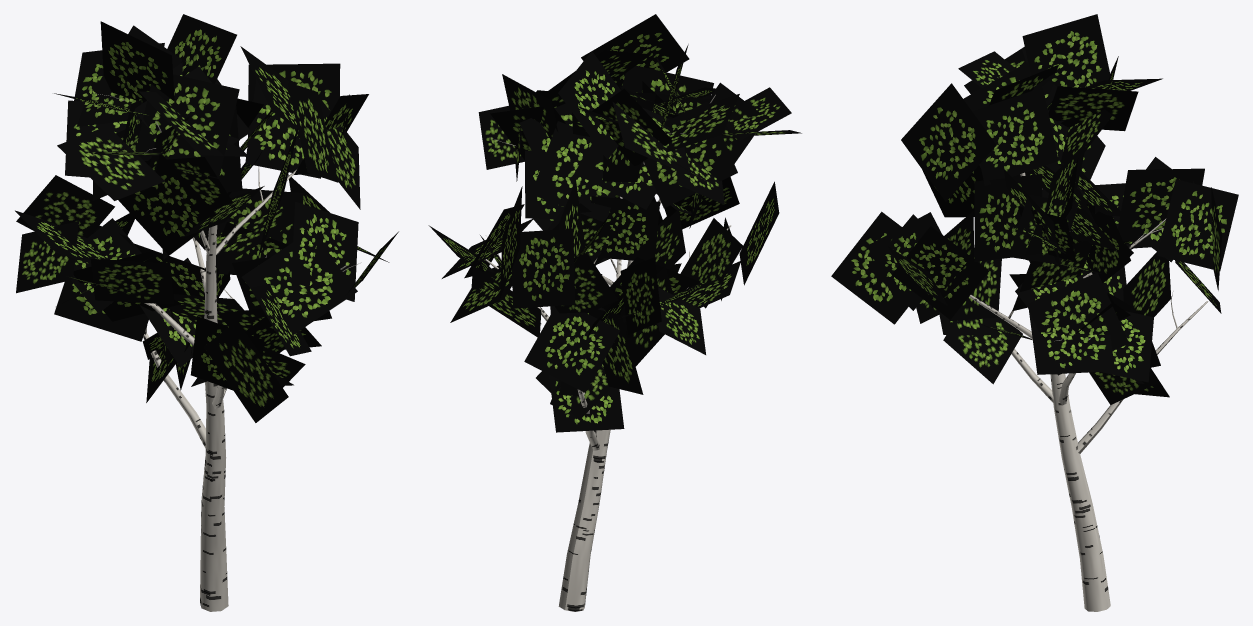
The model's file is birch_1.glb.
3 views of the same model, side by side, from view 1: azimuth 30°, elevation 25°; view 2: azimuth 150°, elevation 25°; view 3: azimuth 270°, elevation 25° (orthographic). The views are drawn at different scales.
Parts seen in each view (by area): view 1: birch_1Leaves, birch_1Wood; view 2: birch_1Leaves, birch_1Wood; view 3: birch_1Leaves, birch_1Wood.
Boxes of the visible parts, bbox=[...] form: birch_1Leaves: bbox=[15, 14, 398, 422]; birch_1Wood: bbox=[94, 93, 361, 611]; birch_1Leaves: bbox=[428, 14, 801, 432]; birch_1Wood: bbox=[478, 94, 730, 611]; birch_1Leaves: bbox=[831, 14, 1238, 404]; birch_1Wood: bbox=[969, 172, 1208, 611].
Size of what is drawn, in the model's own units: 3.57 by 5.92 by 4.01.
2 materials, 2 textured.
